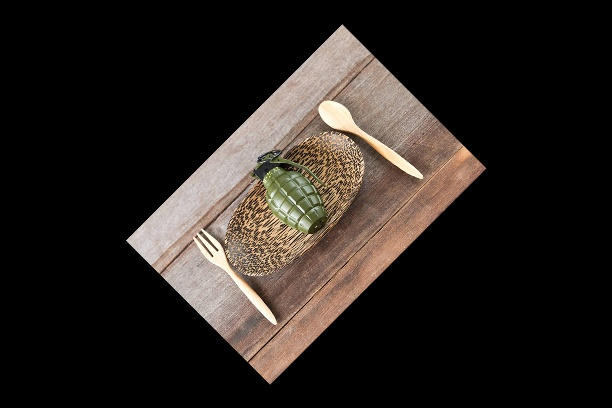e1: (245, 145, 330, 232)
